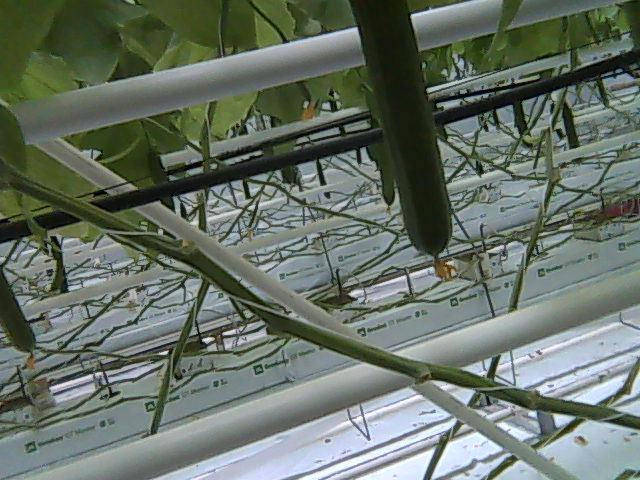concombre: (351, 1, 460, 284)
